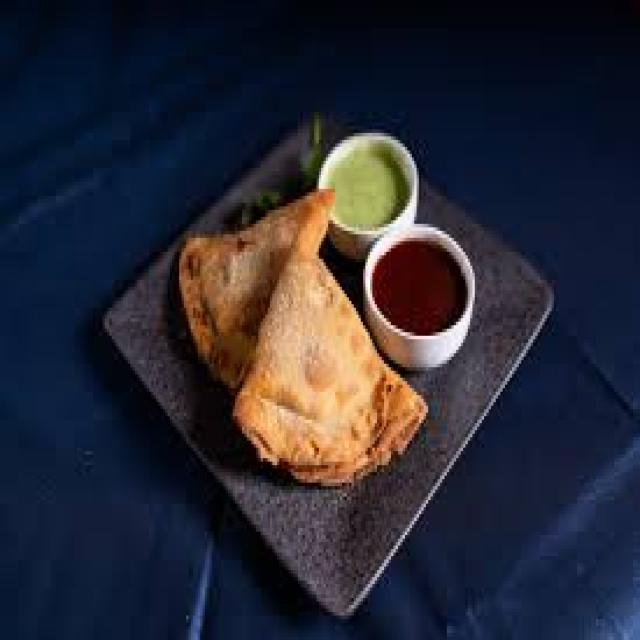SAMOSA: (248, 221, 418, 468), (186, 193, 331, 398)
